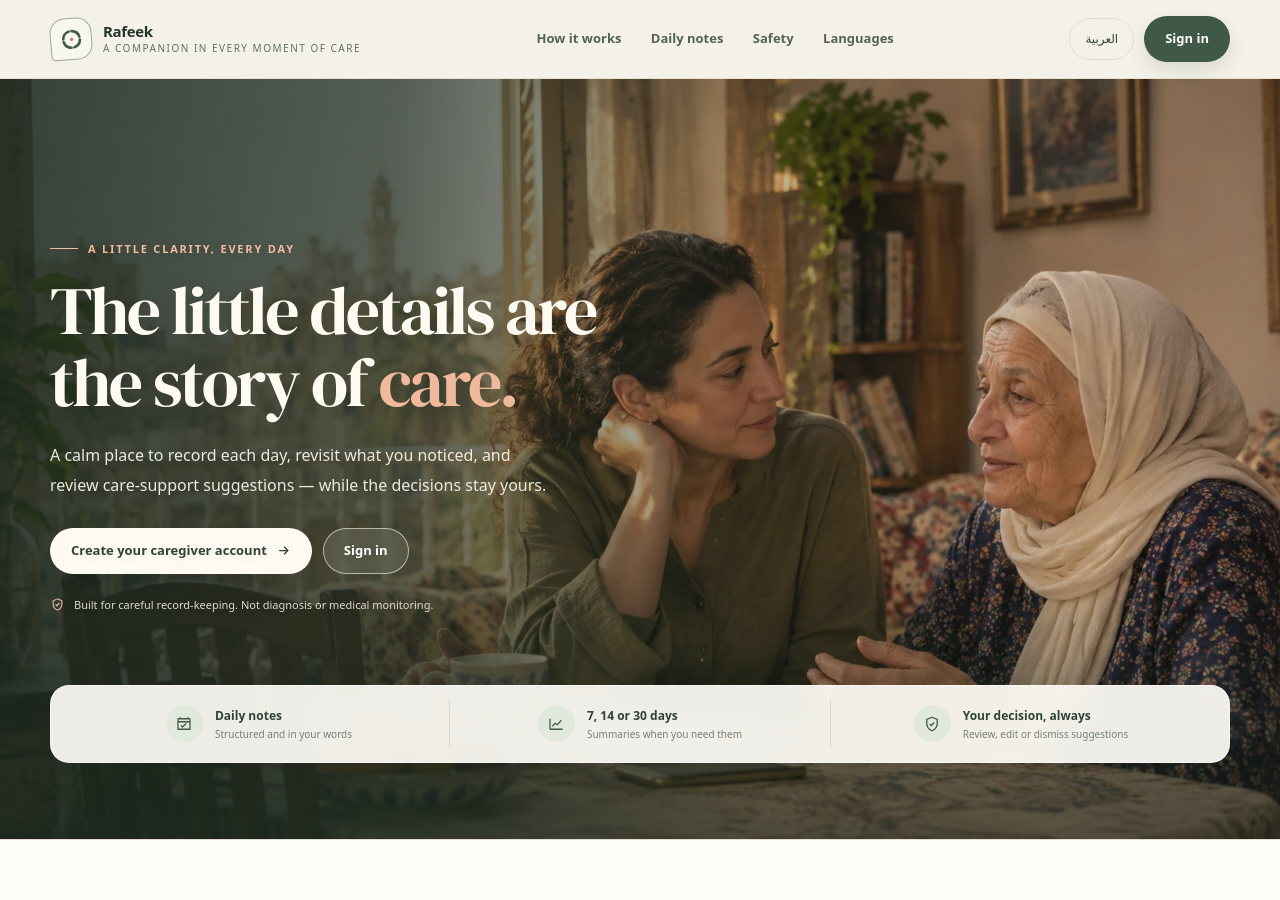
Test case: application foundation › keeps Arabic active and persisted when navigating between routes
Click the button with aria-label "Switch to Arabic": (1102, 39) [1069, 18, 1134, 60]
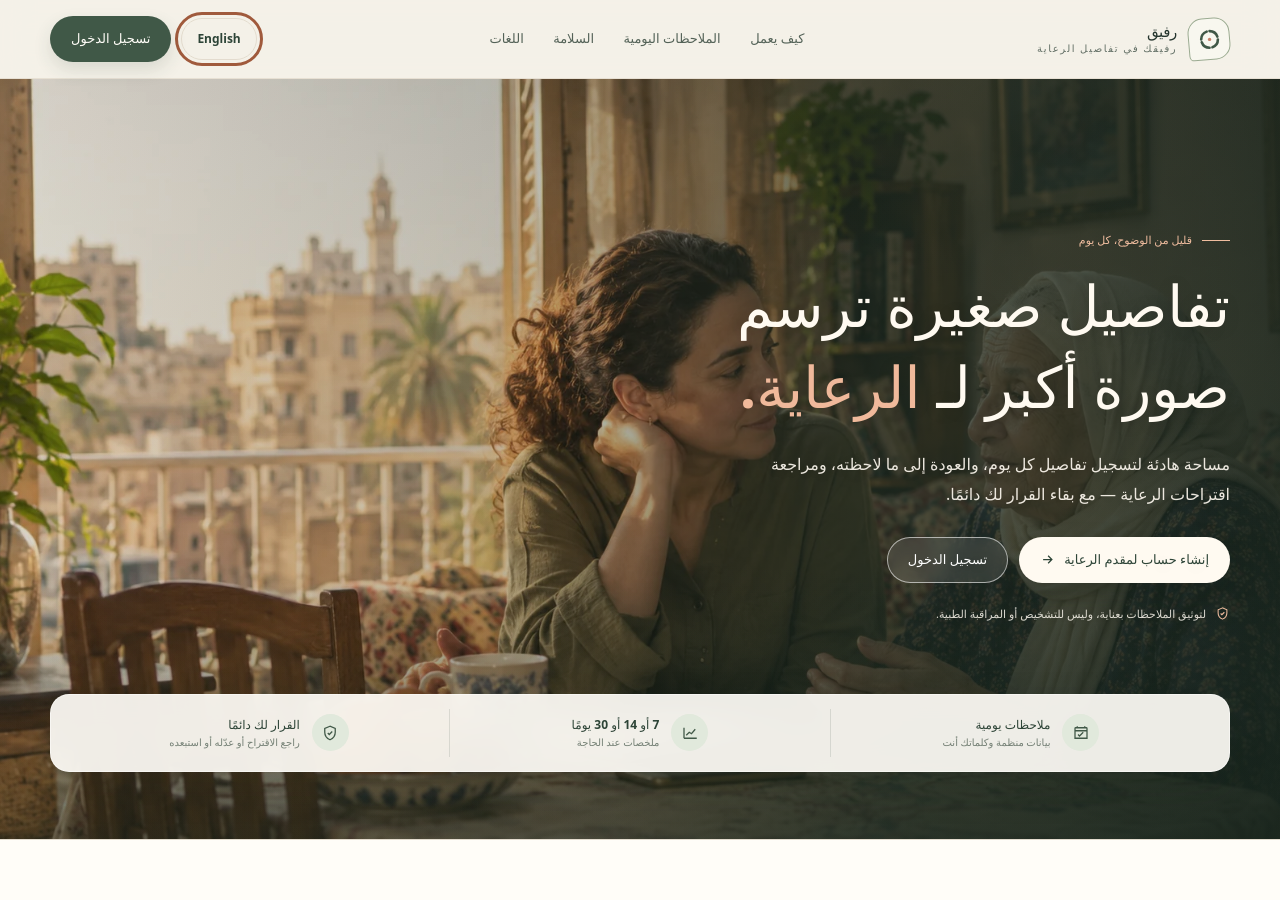
Click the link "تسجيل الدخول" in the row of "اللغات": (111, 39) [50, 16, 171, 62]
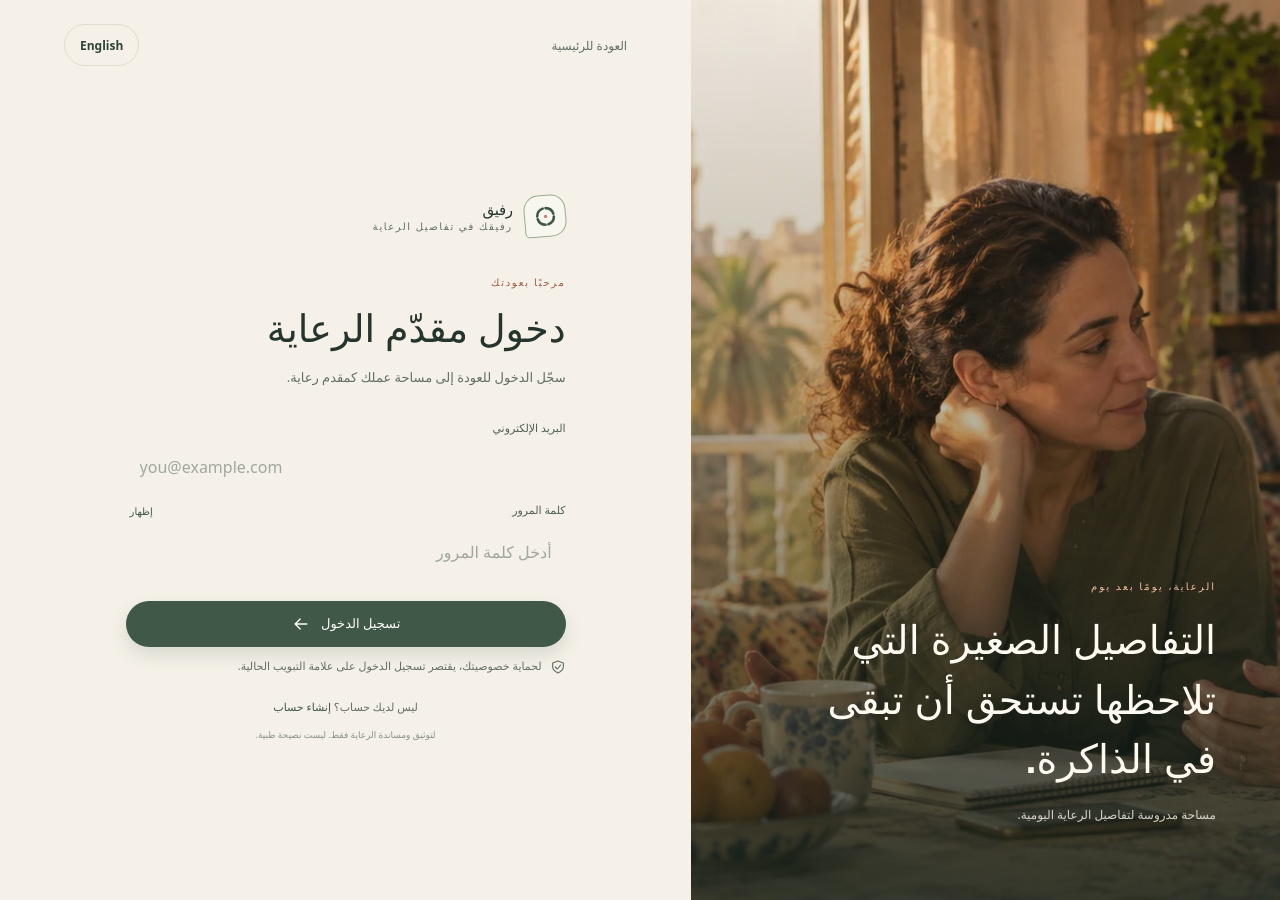
Check: the heading "دخول مقدّم الرعاية" is shown, box [267, 302, 566, 354]
Click the link "العودة للرئيسية": (589, 45) [552, 36, 627, 54]
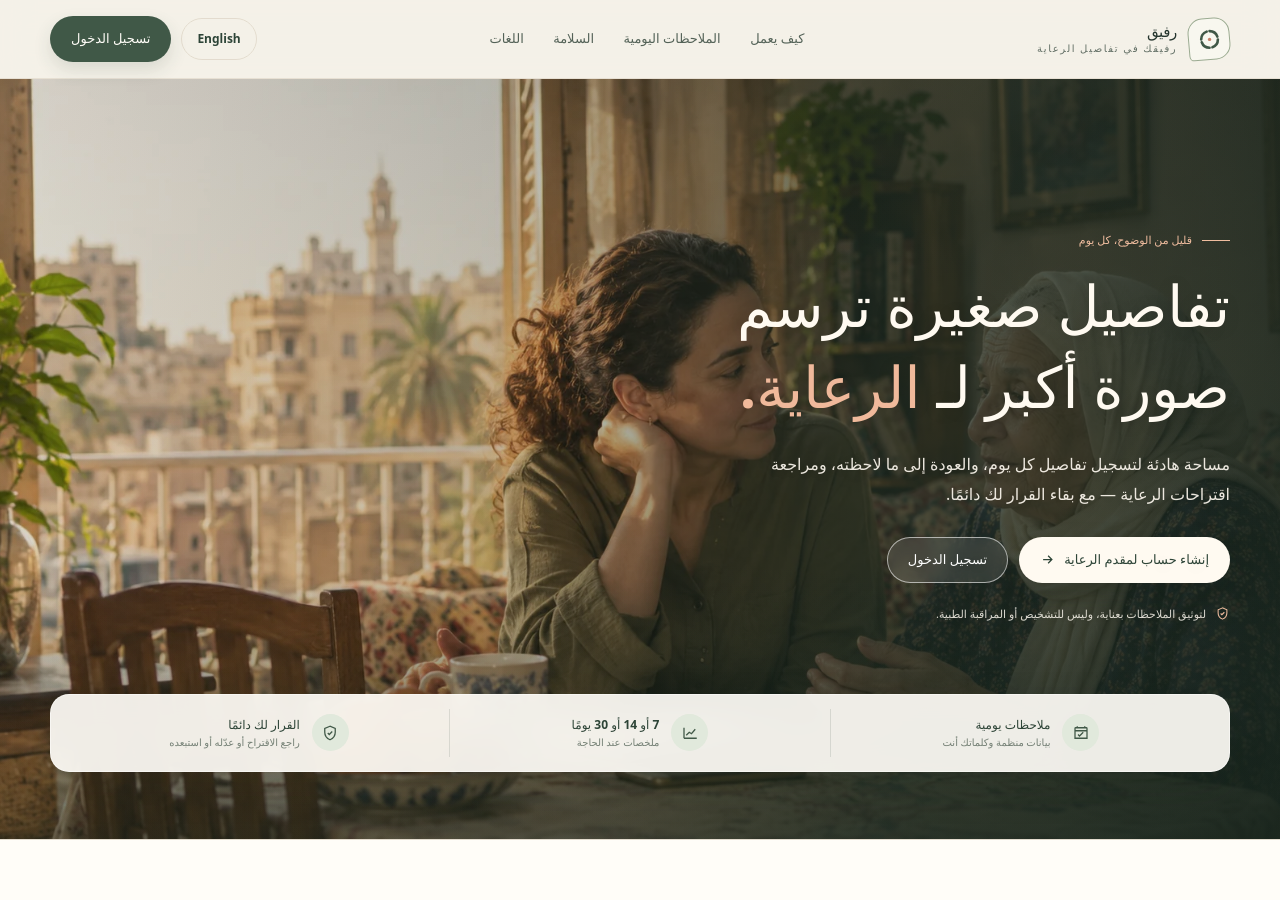
Check: the heading "تفاصيل صغيرة ترسم صورة أكبر لـ الرعاية." is shown, box [737, 265, 1230, 425]
